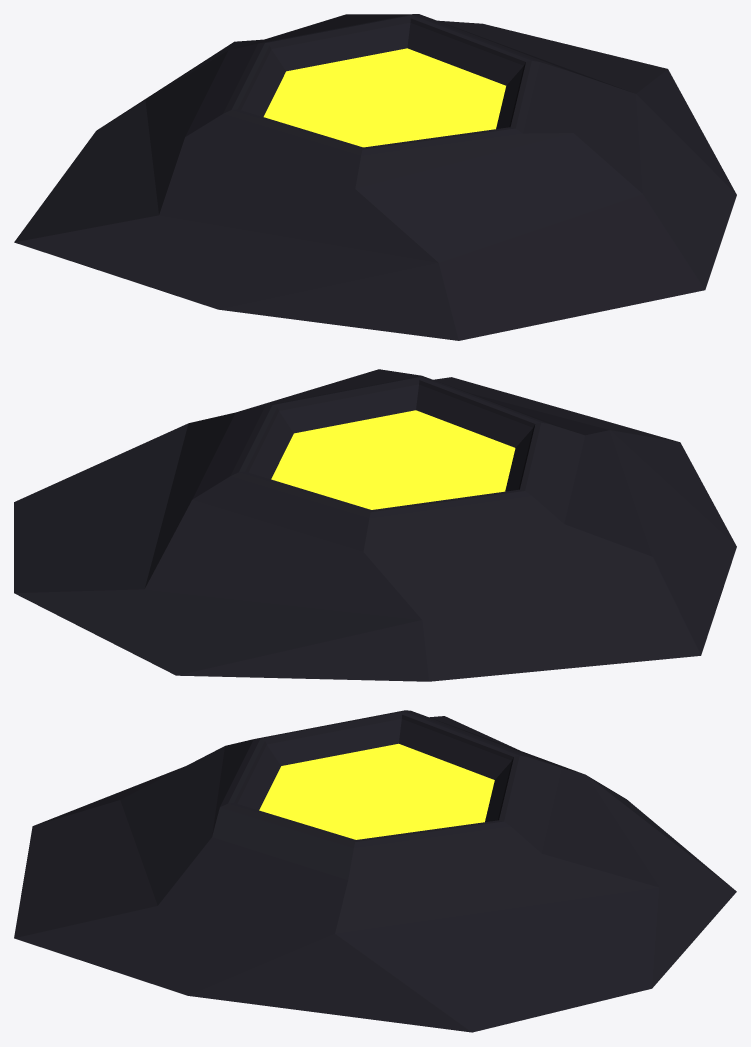
Rendered from Geyser 3.fbx.
3 renders of one model, top to bottom at view 1: azimuth 30°, elevation 25°; view 2: azimuth 150°, elevation 25°; view 3: azimuth 270°, elevation 25°, orthographic. The views are drawn at different scales.
Parts seen in each view (by area): view 1: Circle.005, Circle.004; view 2: Circle.005, Circle.004; view 3: Circle.005, Circle.004.
Part boxes in pixels (bbox=[...]): Circle.005: bbox=[14, 14, 736, 340]; Circle.004: bbox=[263, 48, 505, 147]; Circle.005: bbox=[14, 369, 736, 681]; Circle.004: bbox=[271, 410, 515, 509]; Circle.005: bbox=[14, 710, 736, 1032]; Circle.004: bbox=[259, 743, 494, 839].
Bounding box in the file's own units: 247 × 35.4 × 238.
